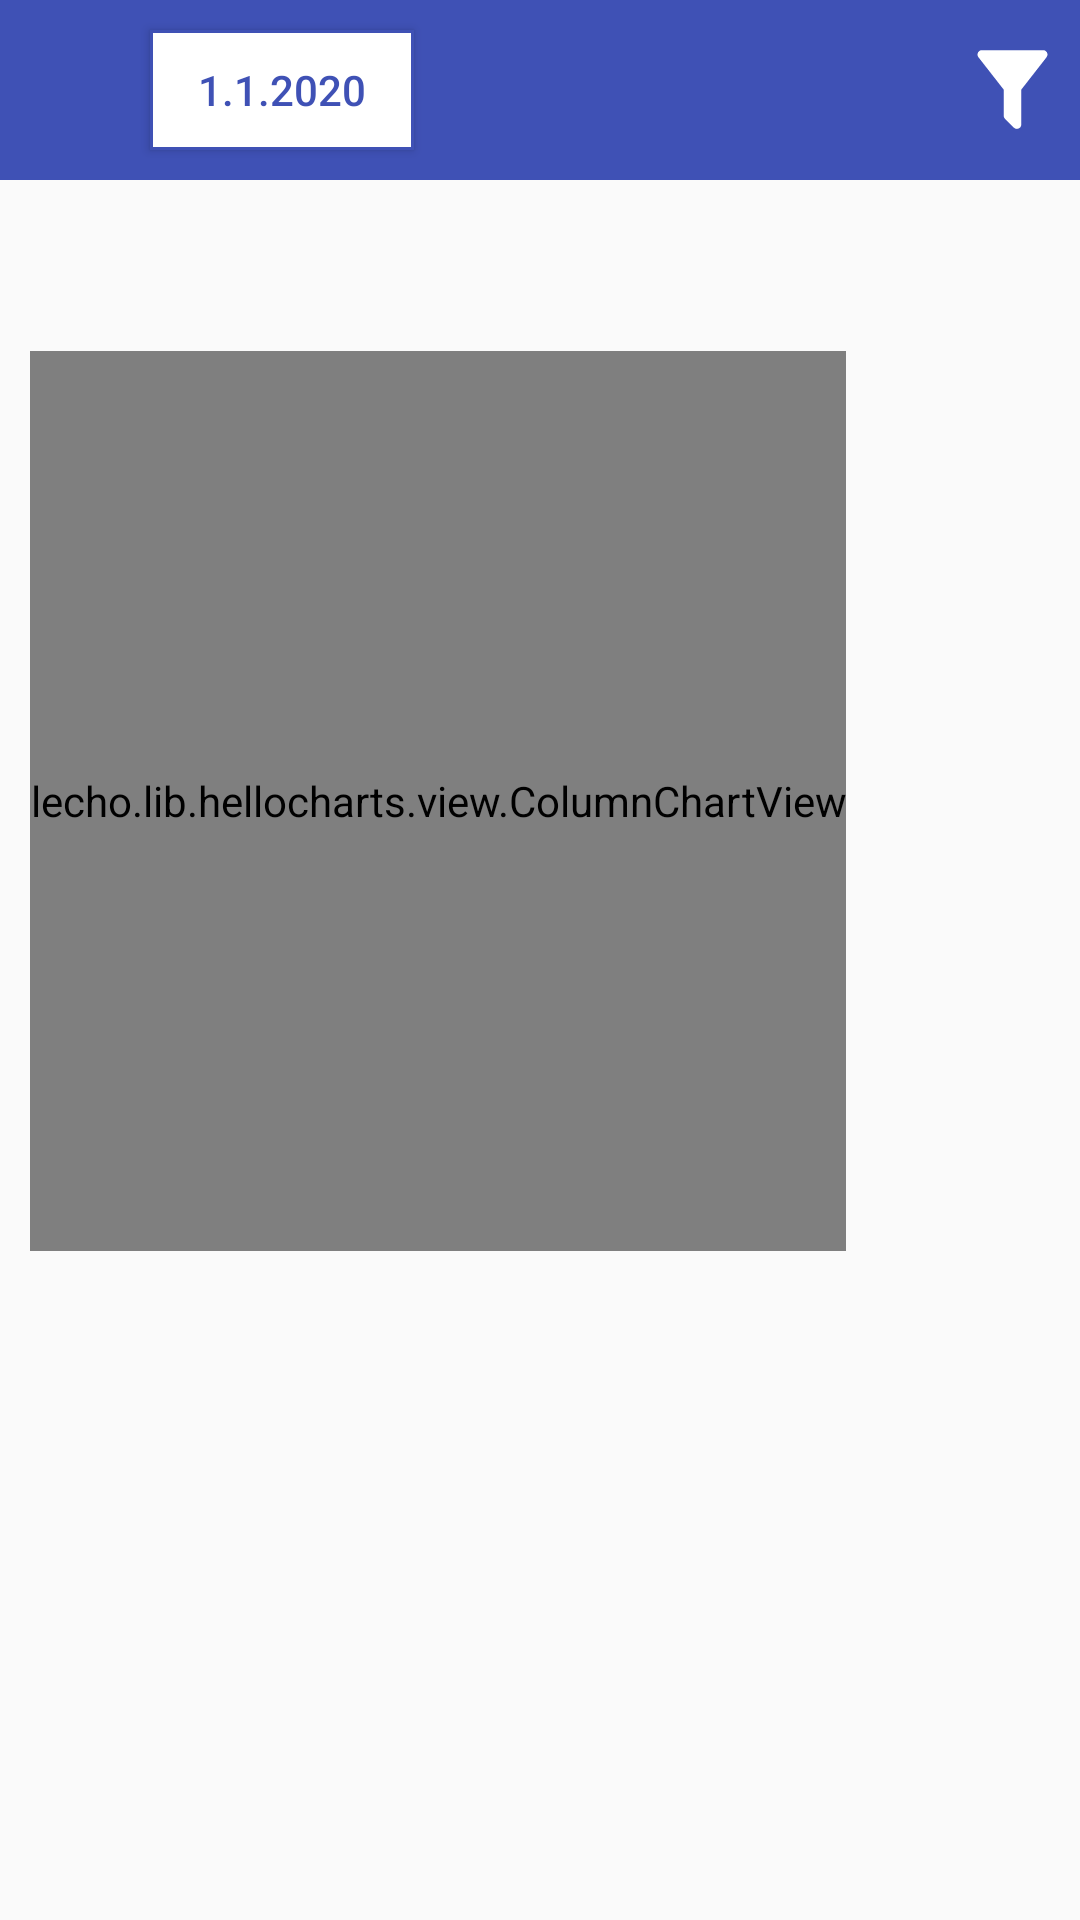

Named icons in this screenshot (1080 x 1920) and their centers, (x=x, y=y):
filter: (x=1012, y=89)
